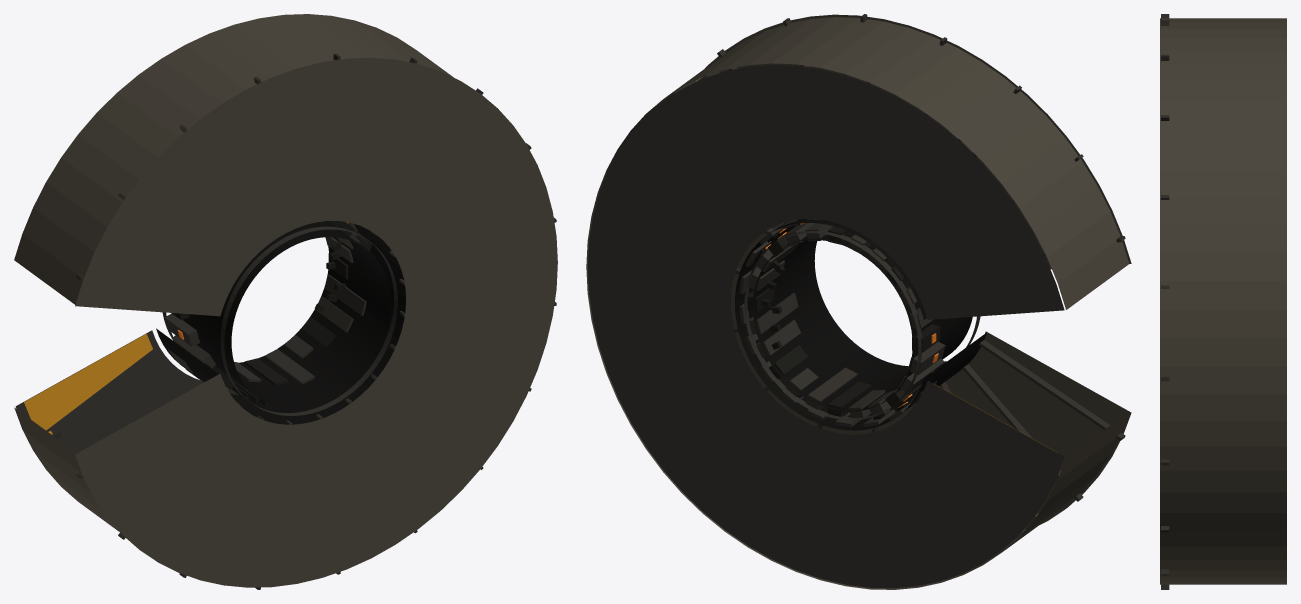
File: industrial_maintenance_loop.obj
The picture shows the model from 3 angles, left to right: view 1: azimuth 30°, elevation 25°; view 2: azimuth 150°, elevation 25°; view 3: azimuth 270°, elevation 25°; orthographic projection.
Visible parts, largest first — view 1: industrial_maintenance_loop; view 2: industrial_maintenance_loop; view 3: industrial_maintenance_loop.
Part boxes in pixels (x1,y1,x2,y2): industrial_maintenance_loop: (14,14,557,589); industrial_maintenance_loop: (586,14,1131,589); industrial_maintenance_loop: (1160,14,1286,589).
Size of the model in its own units: 31.81 by 32.6 by 7.2.
